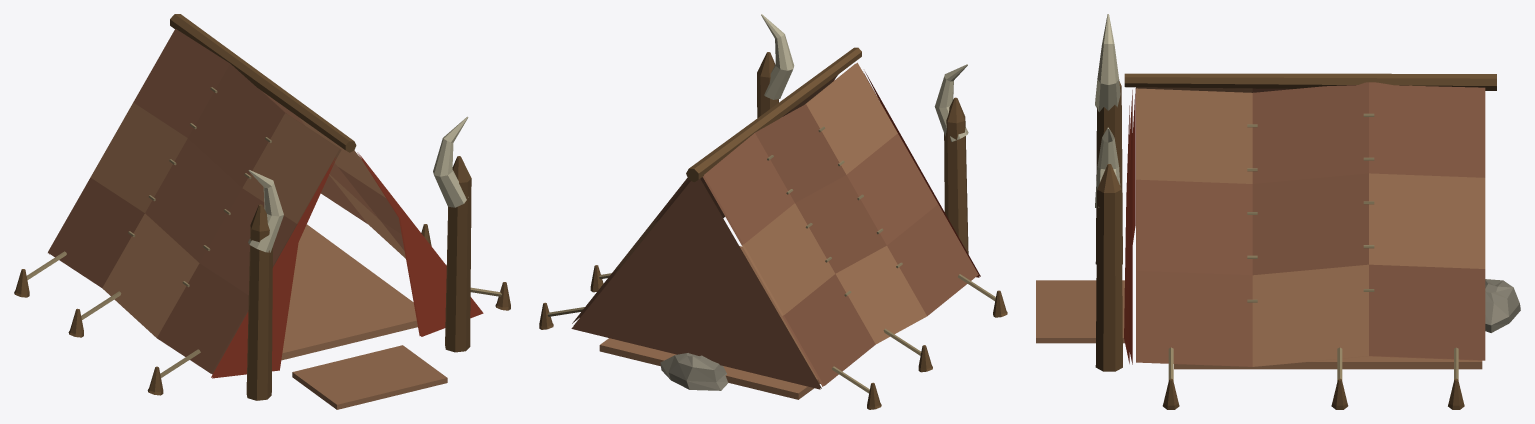
The model's file is war-tent.glb.
3 views of the same model, side by side, from view 1: azimuth 30°, elevation 25°; view 2: azimuth 150°, elevation 25°; view 3: azimuth 270°, elevation 25° (orthographic). The views are drawn at different scales.
Visible parts, largest first — view 1: war-tent; view 2: war-tent; view 3: war-tent.
Part boxes in pixels (bbox=[...]): war-tent: bbox=[14, 14, 510, 409]; war-tent: bbox=[539, 14, 1007, 409]; war-tent: bbox=[1036, 14, 1520, 409].
Size of the model in its own units: 3.82 by 2.33 by 4.17.
